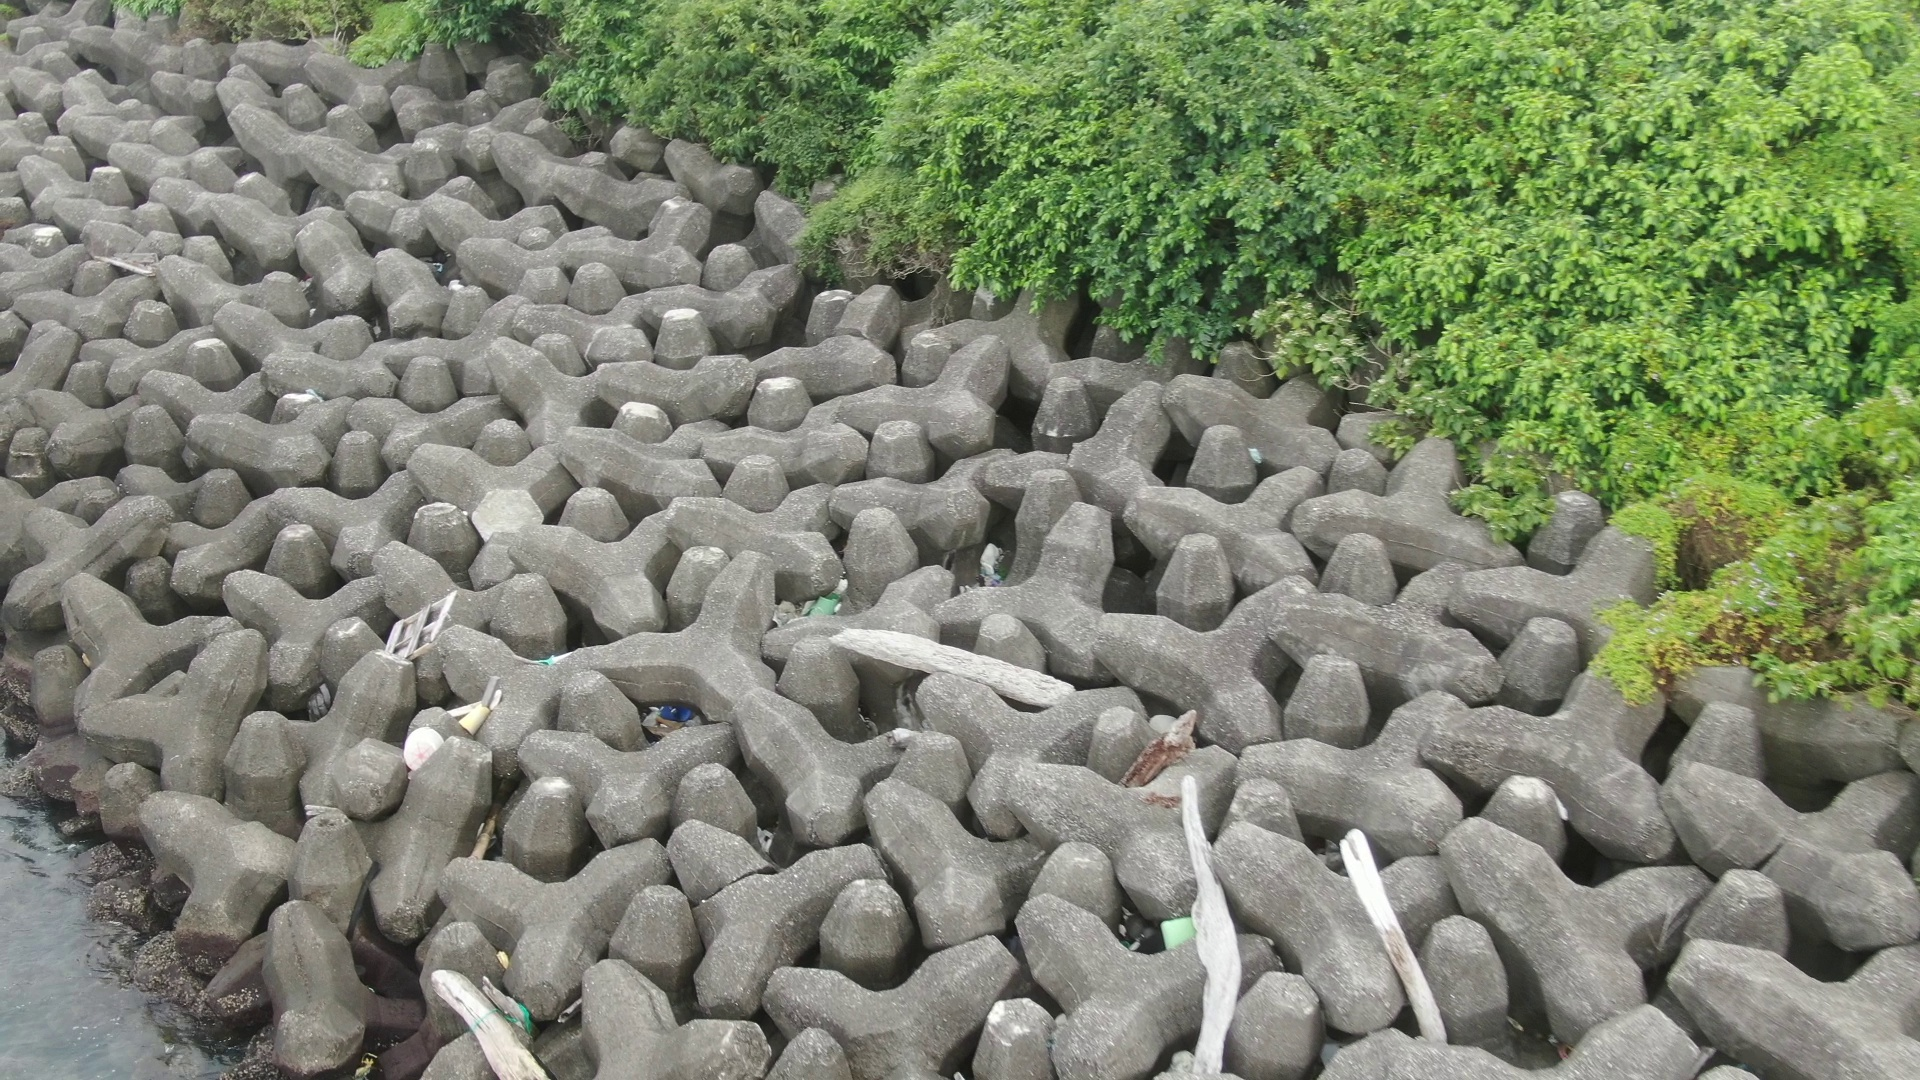garbage: (382, 684, 518, 774), (595, 699, 731, 752), (371, 601, 471, 665), (477, 960, 553, 1040), (795, 564, 858, 636), (971, 538, 1007, 615), (1153, 911, 1205, 957)
